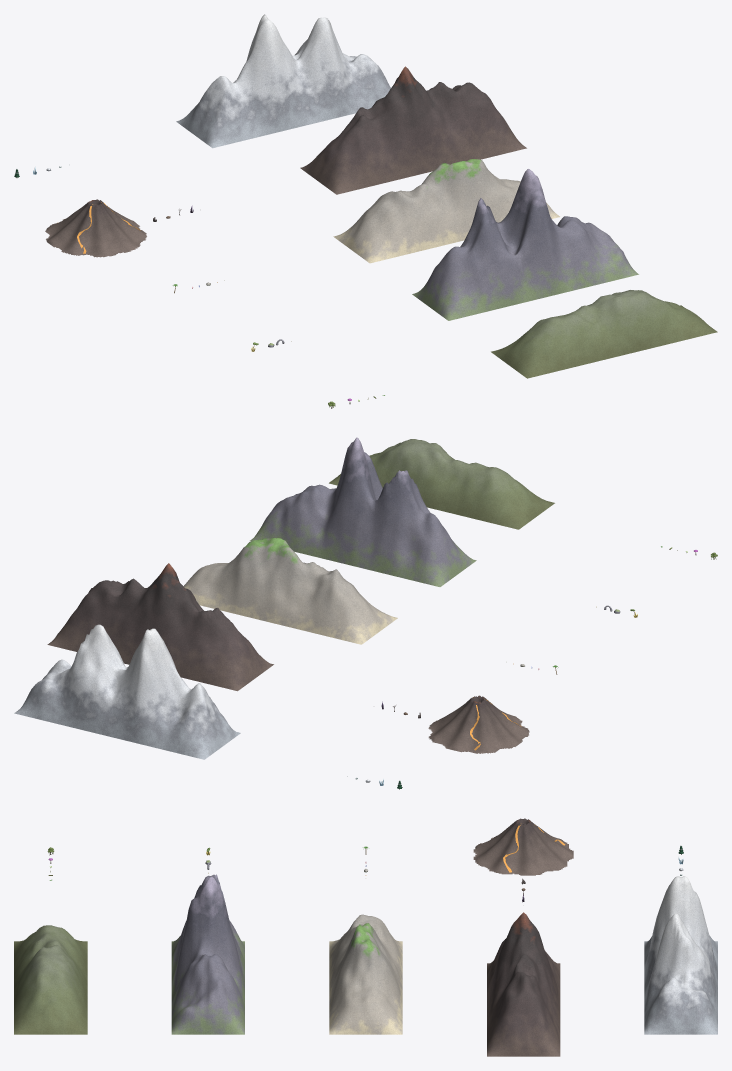
Rendered from BiomeProps.fbx.
3 renders of one model, top to bottom at view 1: azimuth 30°, elevation 25°; view 2: azimuth 150°, elevation 25°; view 3: azimuth 270°, elevation 25°, orthographic.
Visible parts, largest first — view 1: ThunderwildHighlands-Range_Rock, FrostfallTundra-Range_Rock, EmberpeakVolcano-Range_Rock, ToxicBloomSwamp-Range_Rock, TidebreakCoast-Range_Rock, EmberpeakVolcano-Volcano_Rock; view 2: FrostfallTundra-Range_Rock, ThunderwildHighlands-Range_Rock, EmberpeakVolcano-Range_Rock, TidebreakCoast-Range_Rock, ToxicBloomSwamp-Range_Rock, EmberpeakVolcano-Volcano_Rock; view 3: FrostfallTundra-Range_Rock, ThunderwildHighlands-Range_Rock, EmberpeakVolcano-Range_Rock, TidebreakCoast-Range_Rock, ToxicBloomSwamp-Range_Rock, EmberpeakVolcano-Volcano_Rock.
Part boxes in pixels (x1,y1,x2,y2): ThunderwildHighlands-Range_Rock: [412, 169, 638, 320]; FrostfallTundra-Range_Rock: [176, 14, 390, 148]; EmberpeakVolcano-Range_Rock: [300, 66, 526, 194]; ToxicBloomSwamp-Range_Rock: [491, 290, 717, 378]; TidebreakCoast-Range_Rock: [333, 159, 559, 263]; EmberpeakVolcano-Volcano_Rock: [45, 199, 146, 257]; FrostfallTundra-Range_Rock: [14, 624, 240, 759]; ThunderwildHighlands-Range_Rock: [250, 437, 476, 586]; EmberpeakVolcano-Range_Rock: [47, 563, 273, 691]; TidebreakCoast-Range_Rock: [183, 538, 397, 644]; ToxicBloomSwamp-Range_Rock: [329, 439, 554, 529]; EmberpeakVolcano-Volcano_Rock: [428, 695, 529, 753]; FrostfallTundra-Range_Rock: [644, 876, 717, 1034]; ThunderwildHighlands-Range_Rock: [171, 874, 244, 1034]; EmberpeakVolcano-Range_Rock: [487, 912, 560, 1056]; TidebreakCoast-Range_Rock: [329, 914, 402, 1034]; ToxicBloomSwamp-Range_Rock: [14, 925, 87, 1034]; EmberpeakVolcano-Volcano_Rock: [473, 818, 573, 875].
Size of the model in its own units: 1005 by 240 by 1340.
Materials: 41 (41 with a texture image).
